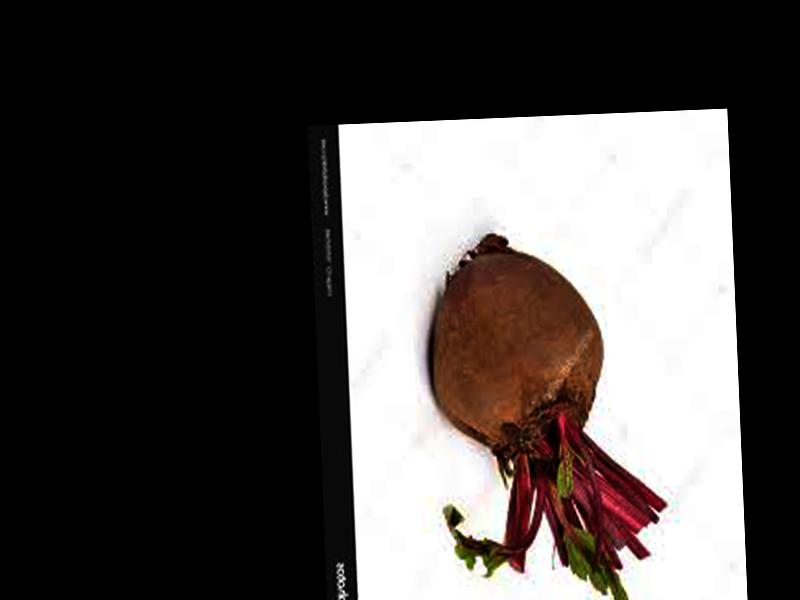Beet: (423, 227, 671, 600)
